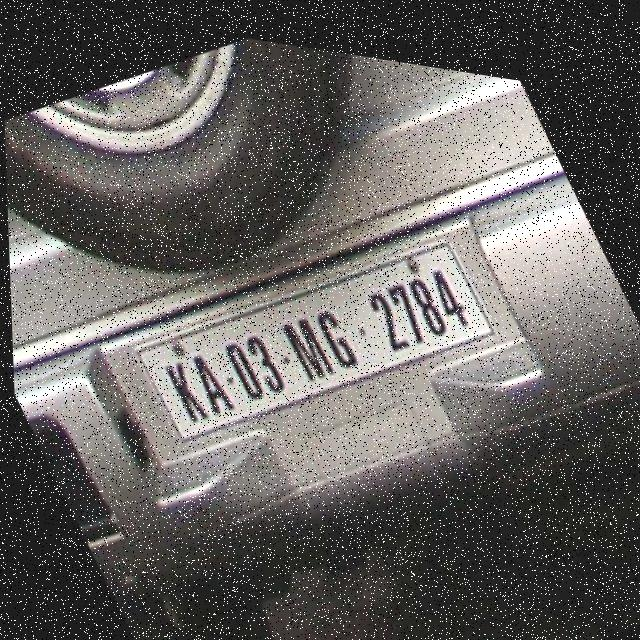license_plate: (128, 192, 494, 471)
